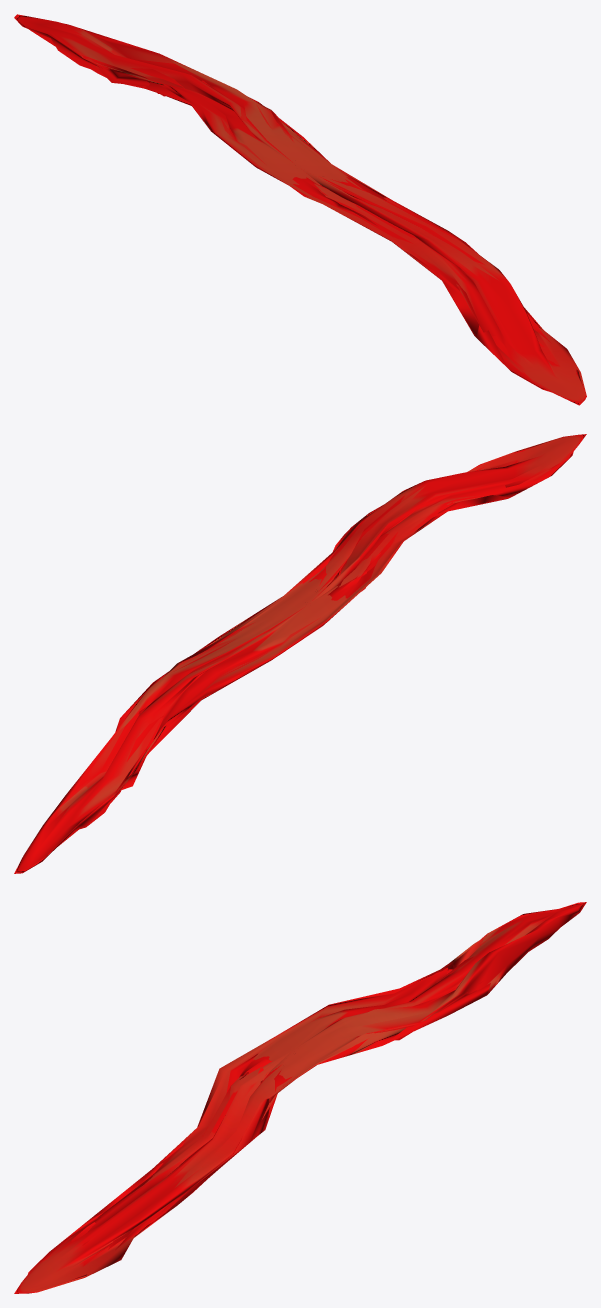
Rendered from Hotdog_Ketchup.fbx.
3 views of the same model, one above another, from view 1: azimuth 30°, elevation 25°; view 2: azimuth 150°, elevation 25°; view 3: azimuth 330°, elevation 25° (orthographic).
Visible parts, largest first — view 1: Ketchup; view 2: Ketchup; view 3: Ketchup.
Part boxes in pixels (x1,y1,x2,y2): Ketchup: (14, 14, 586, 405); Ketchup: (14, 434, 586, 873); Ketchup: (14, 902, 586, 1293).
Bounding box in the file's own units: 29.44 × 21.66 × 327.
Materials: 1 (1 with a texture image).
